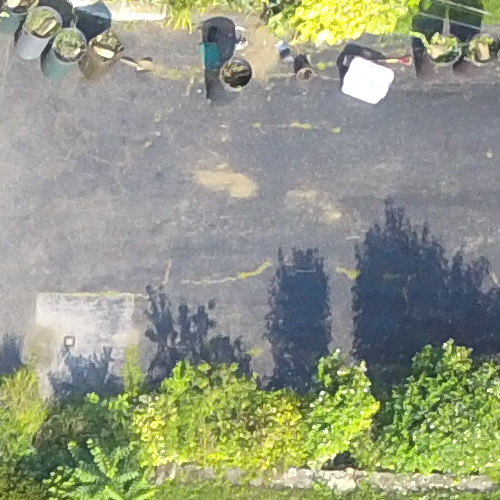container: (9, 1, 67, 66), (39, 16, 93, 84), (198, 49, 258, 104), (85, 25, 126, 89), (416, 29, 462, 86), (456, 27, 500, 76), (286, 47, 321, 83)
